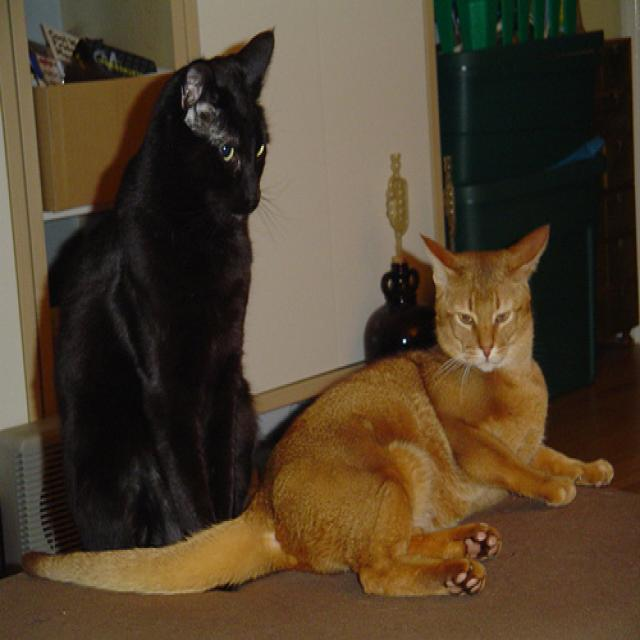left eye: (254, 139, 266, 160)
